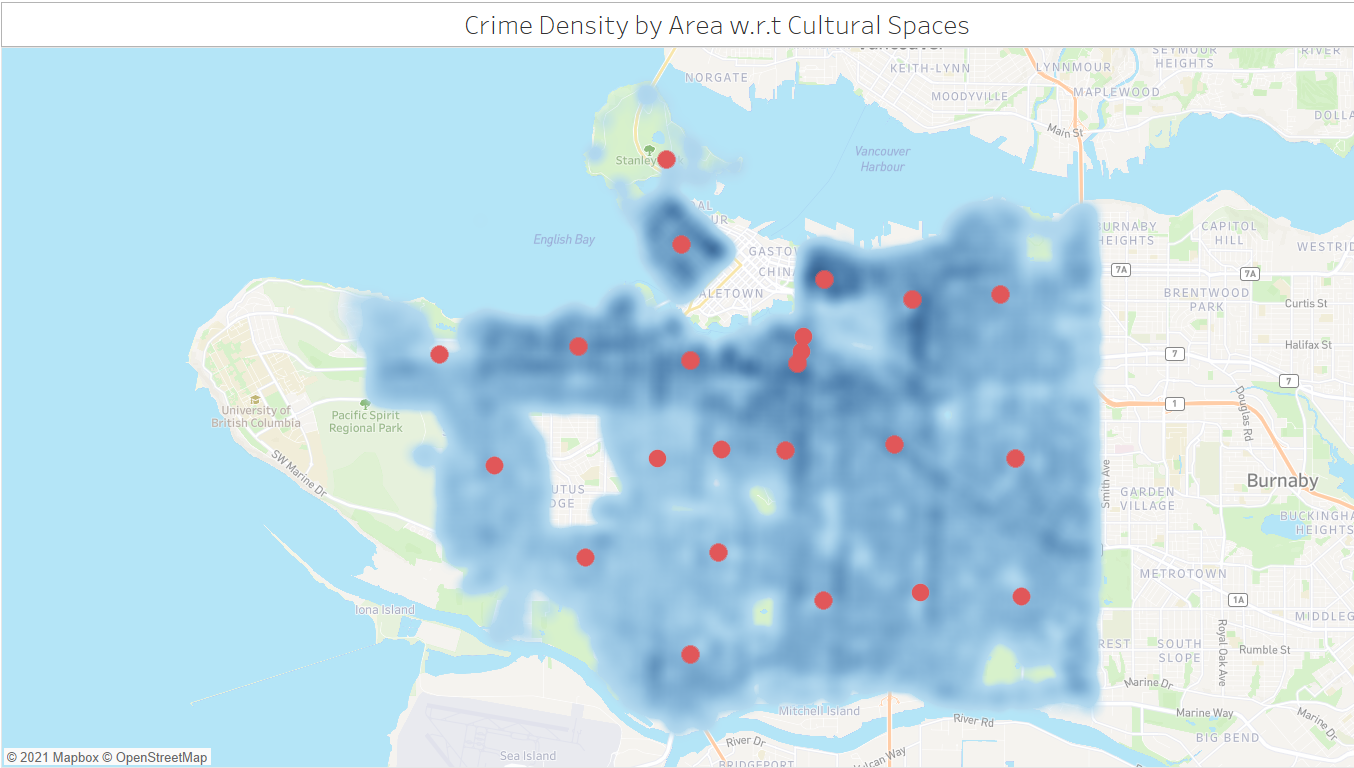

This screenshot's page, from the dashboard's own definition file:
{"tool":"tableau","page":{"name":"Dashboard 1","canvas":[1000,1000],"units":"permille","ordinal":0},"visuals":[{"type":"worksheet","title":"Sheet 1","mark":"Automatic","box":[4.8,9.3,893.8,981.4]},{"type":"legend","title":"Sheet 1","param":"[federated.1s4b5z10wqg3g819w9l4s04un8us].[none:TYPE:nk]","box":[898.6,9.3,96.6,278.7]}]}

Visuals, with their boxes on the dashboard's canvas, which has no fixed pixel size, in thousandths of its width and height (x1, y1, x2, y2). These are canvas units, not pixel positions in the 1354x768 screenshot, which may show the page scaled, cropped or inside an application window:
"Sheet 1" worksheet: l=5, t=9, r=899, b=991
"Sheet 1" legend: l=899, t=9, r=995, b=288
